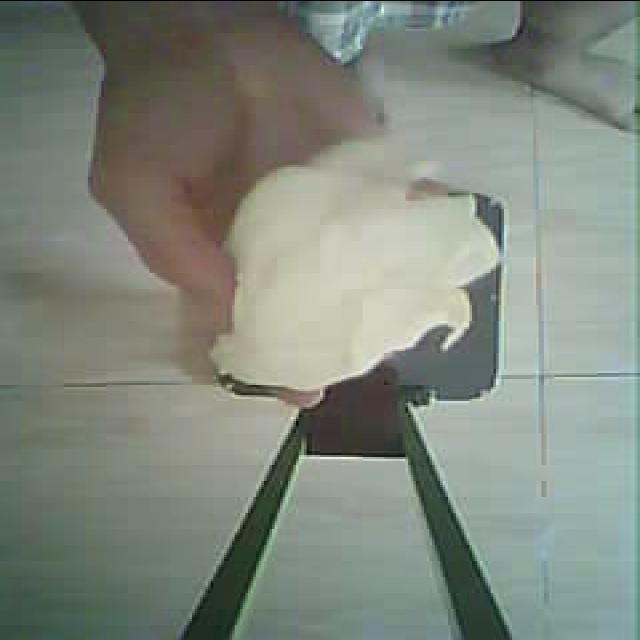Paper: (217, 149, 527, 380)
